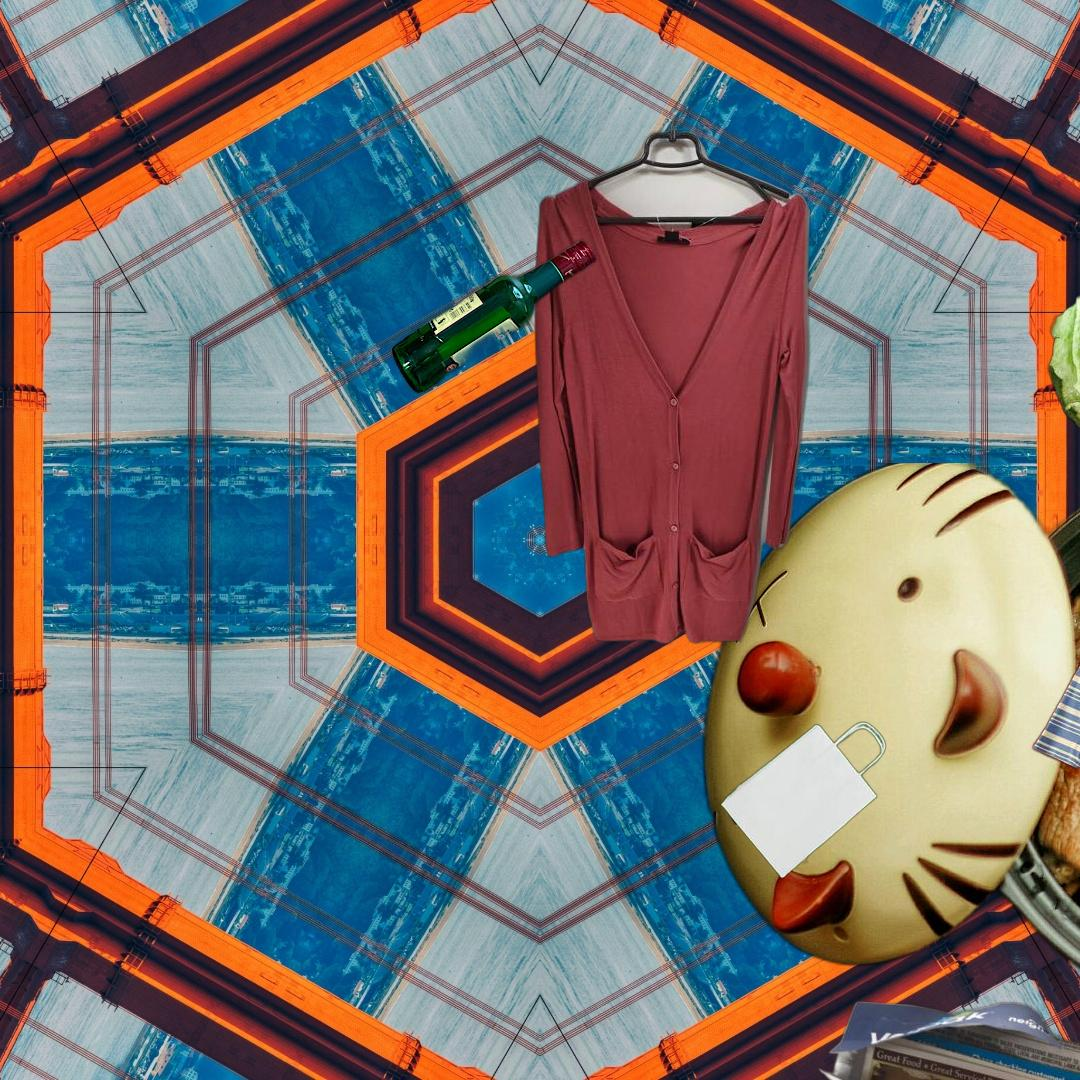biological: (693, 463, 1080, 1030), (1030, 263, 1080, 442)
clothes: (531, 121, 813, 649), (1029, 547, 1080, 803)
glass: (387, 234, 601, 399)
paper: (809, 998, 1080, 1080)
paper-bag: (718, 719, 887, 881)
